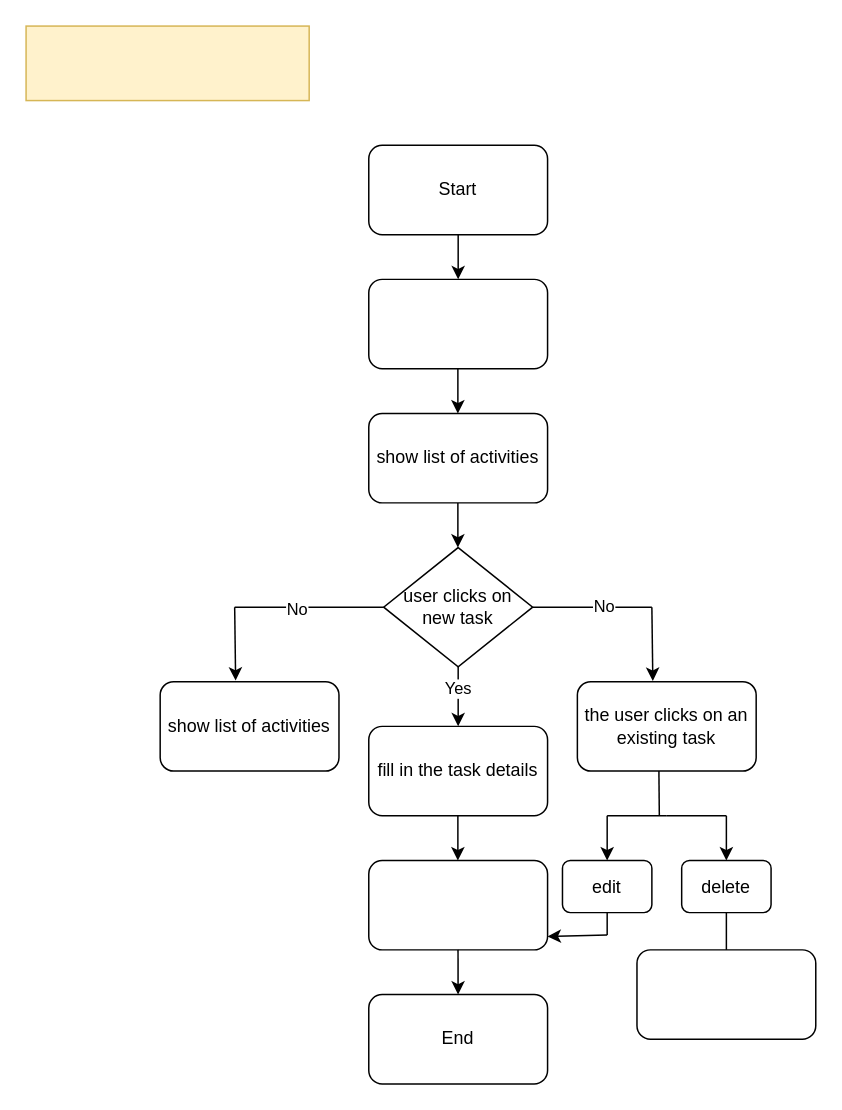
This 842x1110 diagram has some shape labels left out. The shapes that lost their labels are listed below. From the top down, each one's centre as x and y in pixels, then its label:
At point 167,63: "Daily Activity Schedule".
At point 457,323: "open the application".
At point 457,904: "save changes".
At point 725,993: "confirm delete".
